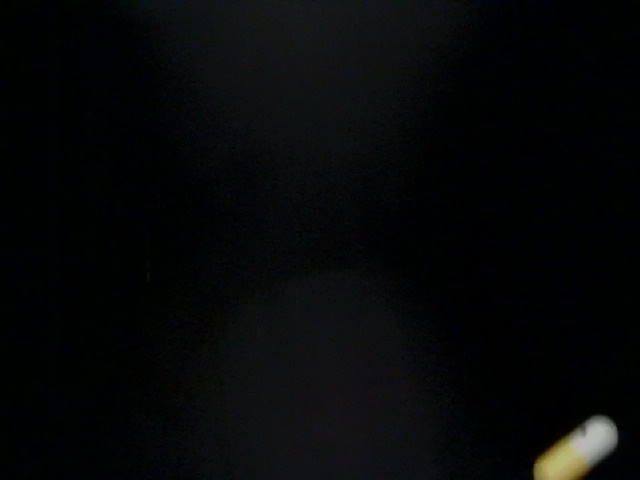YHLJ: (270, 132, 359, 220)
